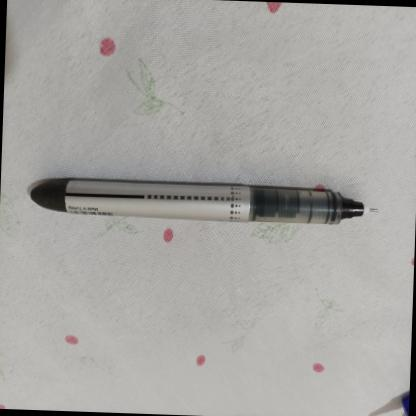pencil: (28, 179, 379, 222)
